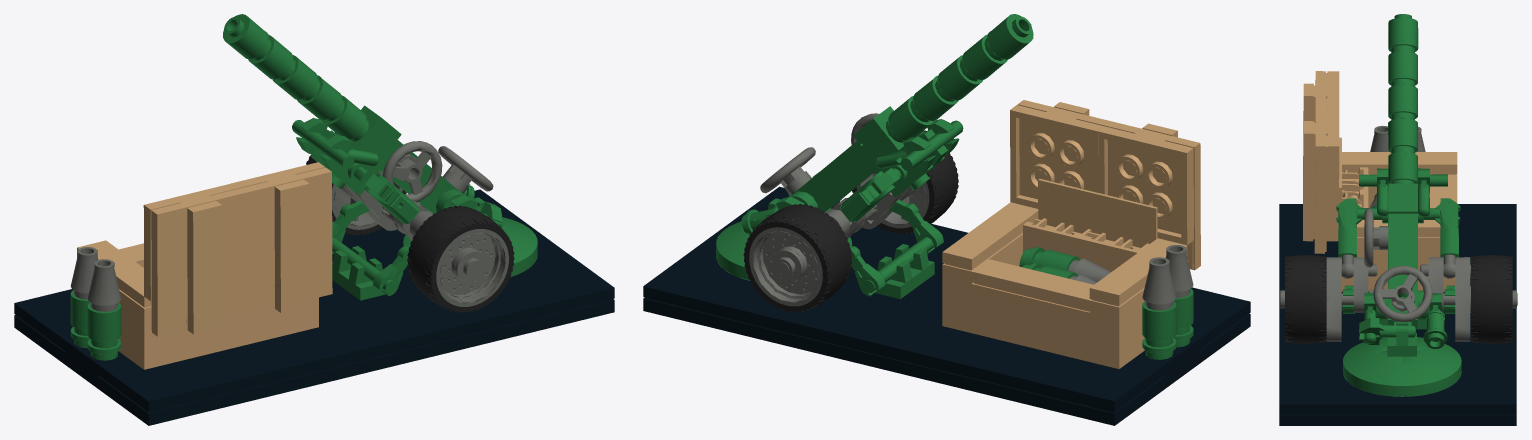
The picture shows the model from 3 angles, left to right: view 1: azimuth 30°, elevation 25°; view 2: azimuth 150°, elevation 25°; view 3: azimuth 270°, elevation 25°; orthographic projection. The views are drawn at different scales.
Parts seen in each view (by area): view 1: 迫击炮（升级款）; view 2: 迫击炮（升级款）; view 3: 迫击炮（升级款）.
Boxes of the visible parts, <box> form: 迫击炮（升级款）: <box>14,14,614,425</box>; 迫击炮（升级款）: <box>643,14,1250,425</box>; 迫击炮（升级款）: <box>1279,14,1517,425</box>.
Bounding box in the file's own units: 320 × 209 × 161.
